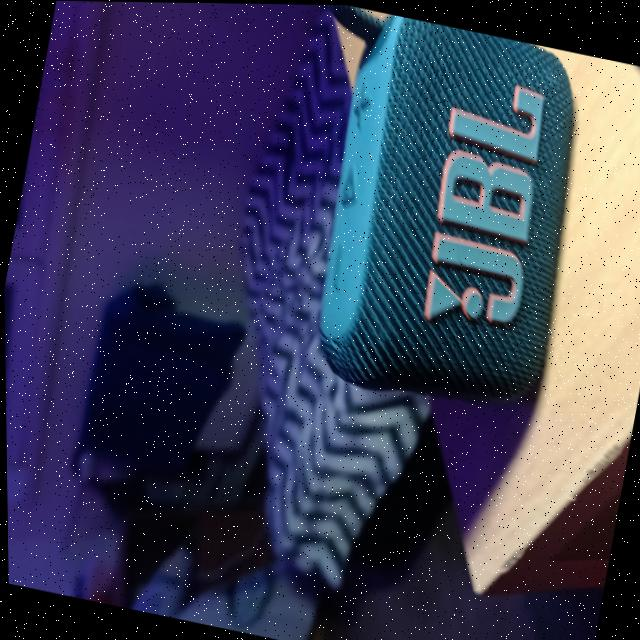column JBL: (219, 3, 608, 428)
